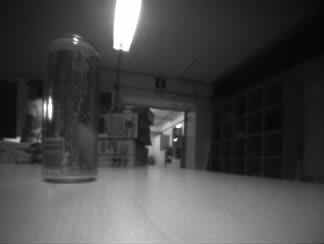Tin can: (40, 33, 100, 184)
